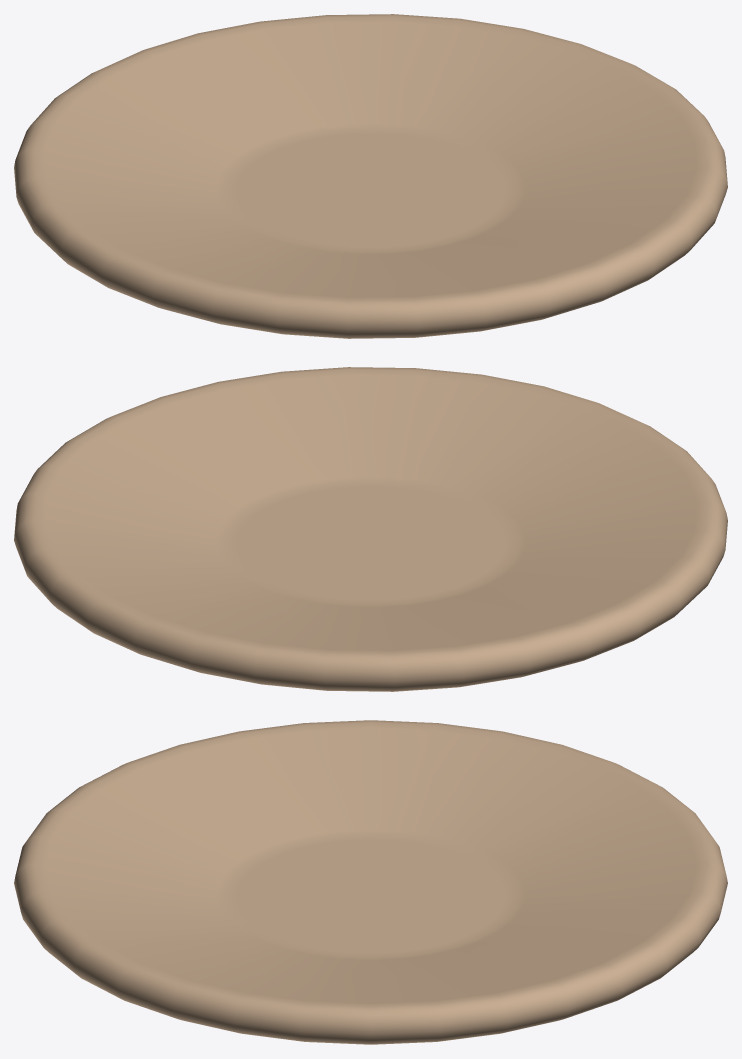
Rendered from SM_coffee_mug_plate_clay.glb.
3 renders of one model, top to bottom at view 1: azimuth 30°, elevation 25°; view 2: azimuth 150°, elevation 25°; view 3: azimuth 270°, elevation 25°, orthographic.
Parts seen in each view (by area): view 1: SM_coffee_mug_plate_clay; view 2: SM_coffee_mug_plate_clay; view 3: SM_coffee_mug_plate_clay.
Boxes of the visible parts, x1,y1,x2,y2 form: SM_coffee_mug_plate_clay: (14,14,727,338); SM_coffee_mug_plate_clay: (14,367,727,691); SM_coffee_mug_plate_clay: (14,720,727,1044).
Bounding box in the file's own units: 0.3209 × 0.0349 × 0.3209.
1 material, 1 textured.
